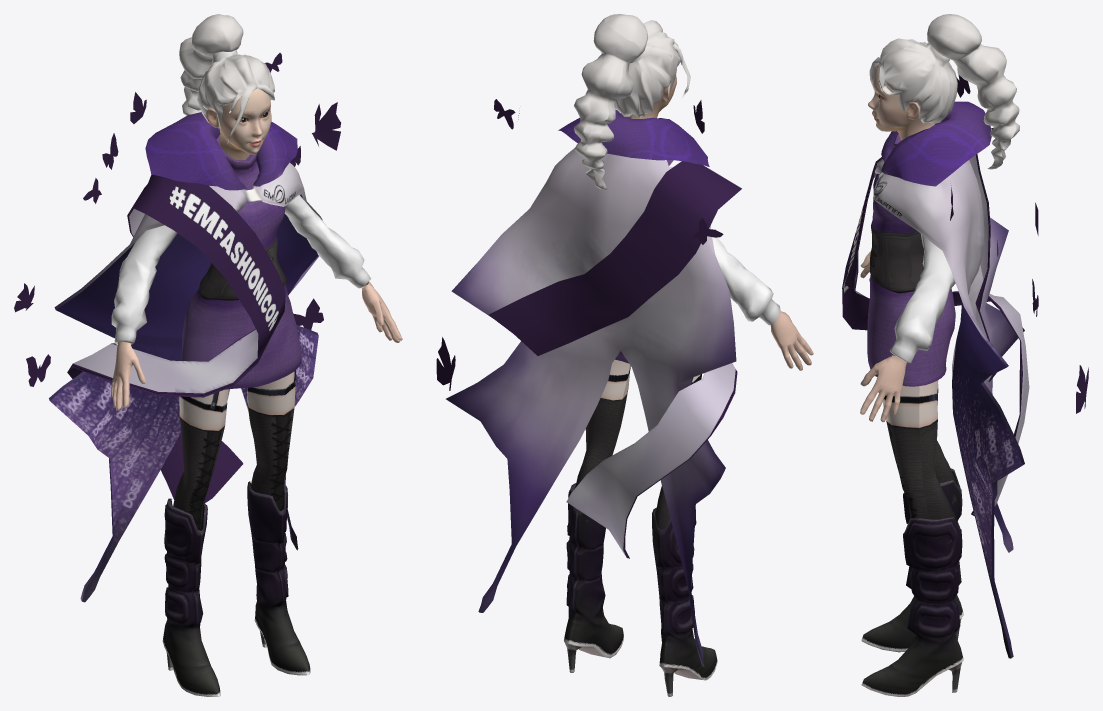
Rendered from Dress_V02.fbx.
3 renders of one model, left to right at view 1: azimuth 30°, elevation 25°; view 2: azimuth 150°, elevation 25°; view 3: azimuth 270°, elevation 25°, orthographic. The views are drawn at different scales.
Visible parts, largest first — view 1: Dress:pasted__pasted__h2, Dress:Plane, Dress:pasted_Outfit_Top_geo1, Dress:boot, Dress:leg, Dress:bodypasted__Wolf3D_Hair1, Dress:bodyWolf3D_Head1, bodyWolf3D_Body1; view 2: Dress:pasted__pasted__h2, Dress:Plane, Dress:boot, Dress:bodypasted__Wolf3D_Hair1, Dress:leg, Dress:pasted_Outfit_Top_geo1, bodyWolf3D_Body1; view 3: Dress:pasted__pasted__h2, Dress:pasted_Outfit_Top_geo1, Dress:boot, Dress:bodypasted__Wolf3D_Hair1, Dress:leg, Dress:Plane, bodyWolf3D_Body1, Dress:bodyWolf3D_Head1.
Boxes of the visible parts, x1,y1,x2,y2 form: Dress:pasted__pasted__h2: (14, 53, 340, 602); Dress:Plane: (67, 174, 285, 502); Dress:pasted_Outfit_Top_geo1: (111, 134, 371, 389); Dress:boot: (162, 481, 310, 696); Dress:leg: (173, 370, 295, 530); Dress:bodypasted__Wolf3D_Hair1: (179, 14, 274, 143); Dress:bodyWolf3D_Head1: (206, 88, 271, 160); bodyWolf3D_Body1: (110, 281, 402, 410); Dress:pasted__pasted__h2: (436, 99, 736, 667); Dress:Plane: (488, 161, 741, 558); Dress:boot: (564, 483, 717, 696); Dress:bodypasted__Wolf3D_Hair1: (574, 14, 690, 189); Dress:leg: (575, 359, 701, 538); Dress:pasted_Outfit_Top_geo1: (615, 116, 780, 363); bodyWolf3D_Body1: (770, 311, 813, 370); Dress:pasted__pasted__h2: (874, 74, 1088, 658); Dress:pasted_Outfit_Top_geo1: (867, 124, 955, 386); Dress:boot: (861, 468, 963, 696); Dress:bodypasted__Wolf3D_Hair1: (869, 14, 1019, 169); Dress:leg: (882, 380, 956, 544); Dress:Plane: (842, 154, 1029, 515); bodyWolf3D_Body1: (860, 250, 906, 421); Dress:bodyWolf3D_Head1: (868, 64, 934, 140).
Size of the model in its own units: 89.36 by 184 by 63.
